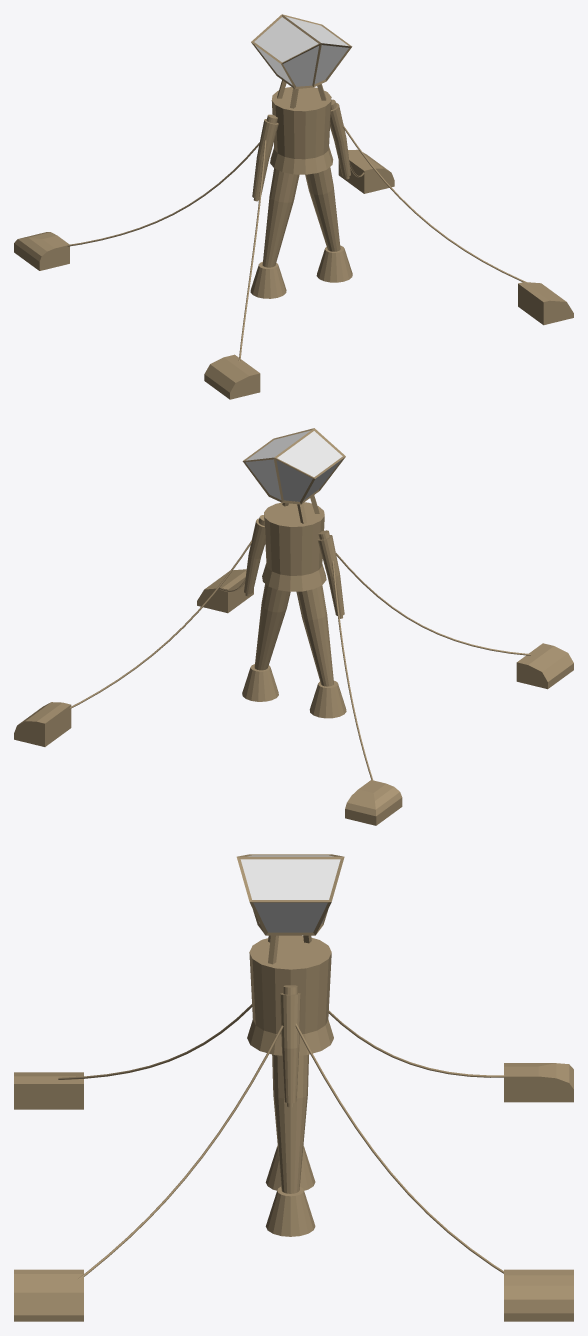
The model's file is heykel1.fbx.
3 views of the same model, one above another, from view 1: azimuth 30°, elevation 25°; view 2: azimuth 150°, elevation 25°; view 3: azimuth 270°, elevation 25° (orthographic). The views are drawn at different scales.
Visible parts, largest first — view 1: Cylinder.001; view 2: Cylinder.001; view 3: Cylinder.001.
Boxes of the visible parts, left/top/right/bottom form: Cylinder.001: left=14, top=14, right=573, bottom=399; Cylinder.001: left=14, top=428, right=573, bottom=825; Cylinder.001: left=14, top=854, right=573, bottom=1321.
Size of the model in its own units: 445 by 308 by 445.
